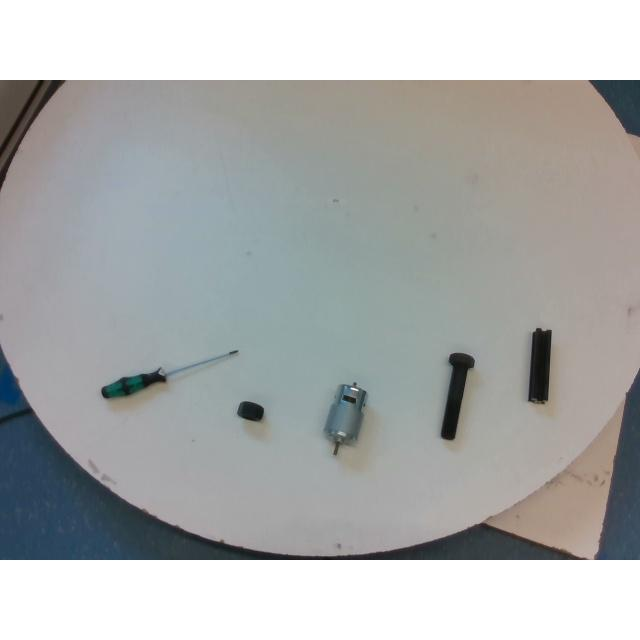F20_20_B: (529, 328, 551, 402)
M20: (237, 400, 263, 420)
M20_100: (440, 353, 474, 439)
Motor2: (324, 382, 366, 453)
Screwdriver: (102, 350, 238, 398)
